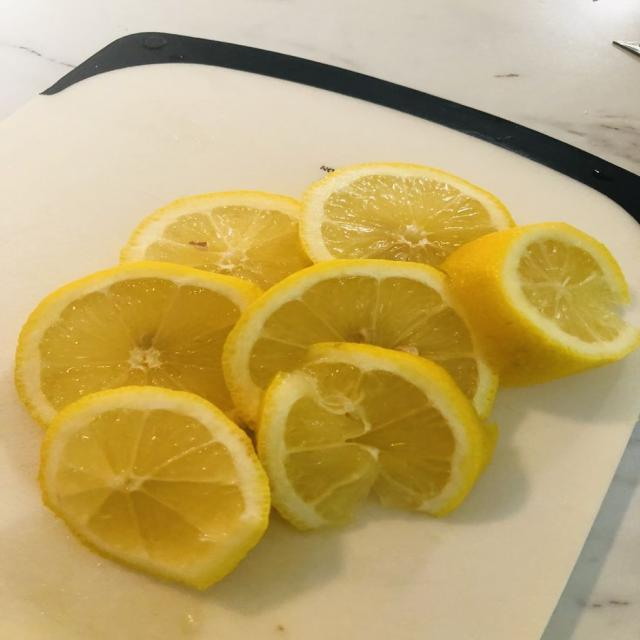lemon: (40, 387, 269, 589), (223, 260, 496, 424), (258, 344, 494, 528), (15, 263, 260, 425), (443, 223, 639, 385), (300, 164, 513, 266), (121, 191, 310, 288)
